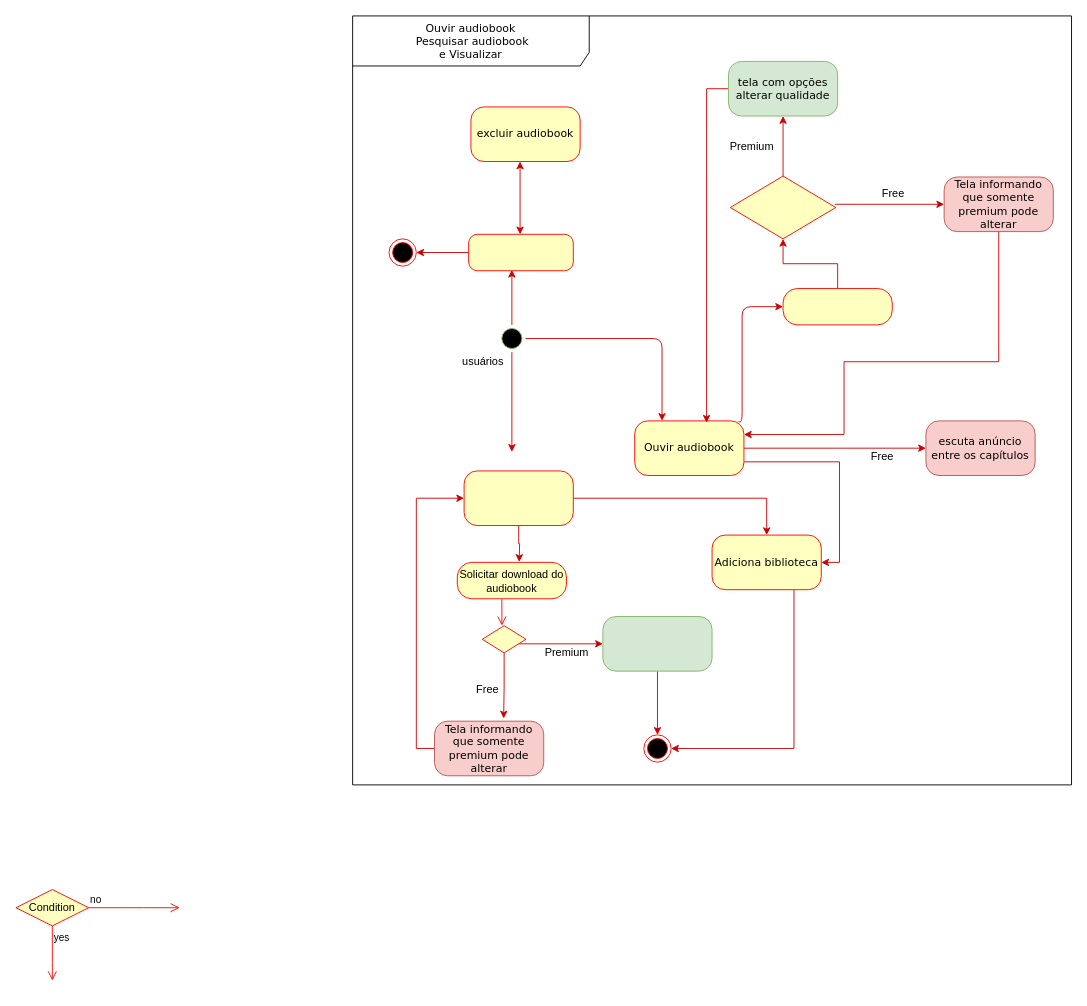
The diagram is 1087 pixels wide and 1006 high, and some of its shapes have lost their labels. The centre of each missing label's shape, as x and y in pixels:
alterar qualidade: (x=782, y=207)
Download para escutar ofline: (x=657, y=643)
Pesquisar audiobook: (x=518, y=498)
Solicita alterar a qualidade do áudio: (x=837, y=306)
Visualizar biblioteca: (x=520, y=252)
